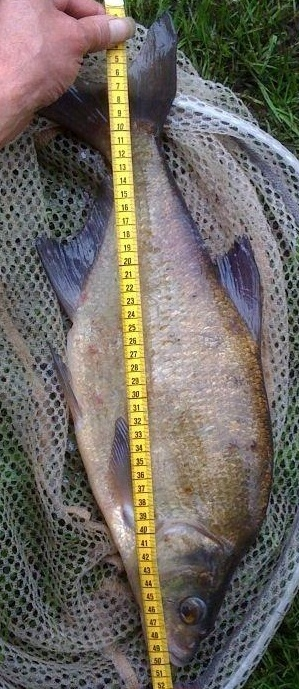Abramis brama: (20, 20, 279, 669)
